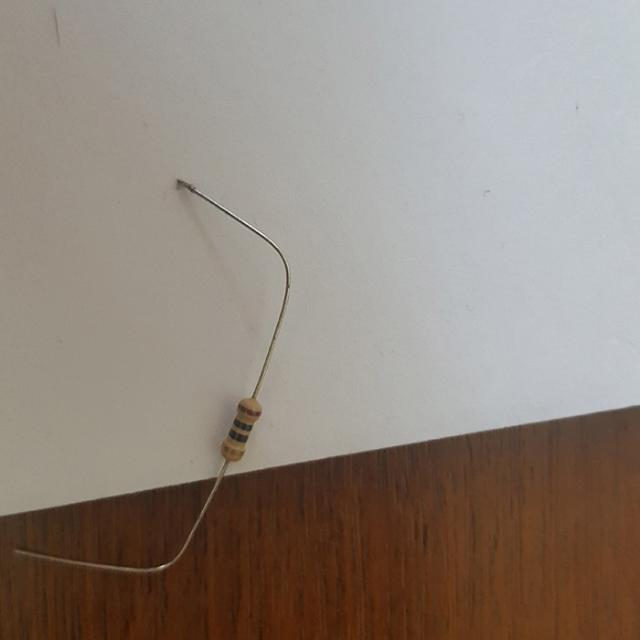black: (234, 420, 251, 431), (229, 432, 246, 443)
brown: (239, 404, 260, 416)
gold: (222, 445, 244, 456)
resistor: (204, 386, 281, 472)
